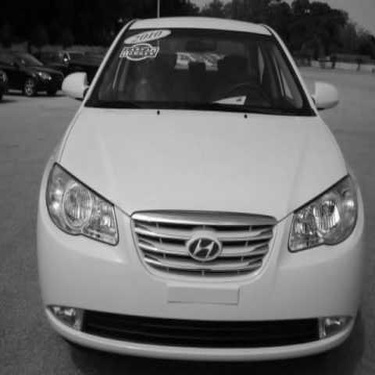car: (26, 10, 356, 351)
